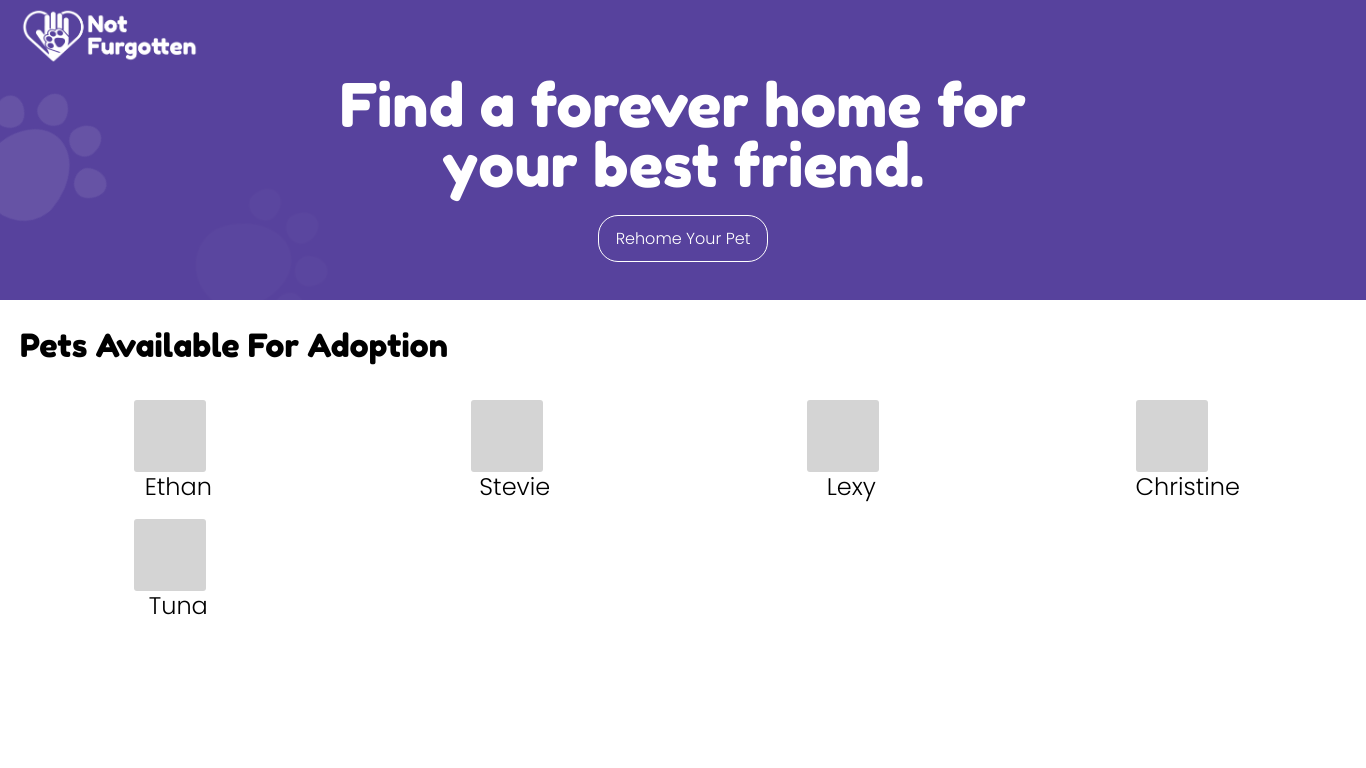
Not Fur-gotten Home Page User Flow › should be able to navigate to the donation form from the home page
Click the button with class "rehome-button" at (683, 239), box [598,215,768,262]
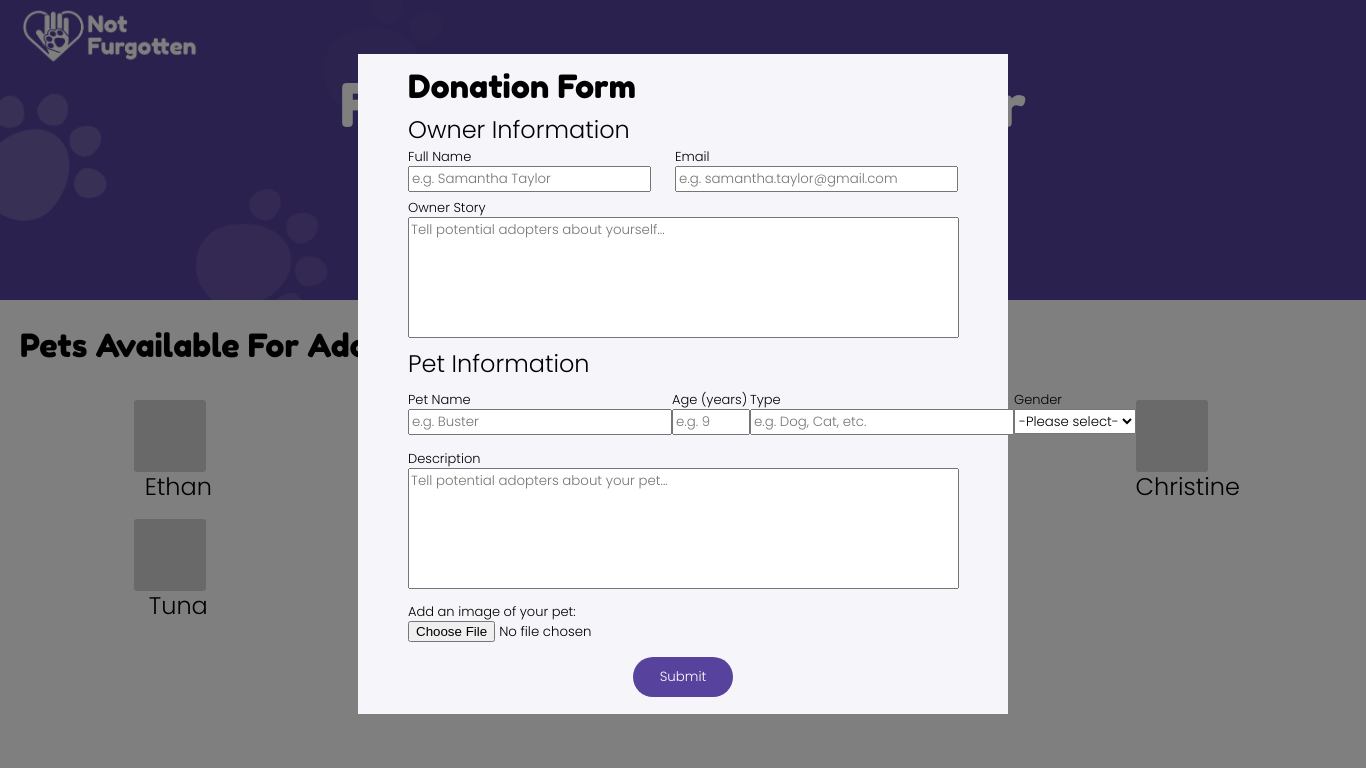
Result: the heading with class "form-title" reads "Donation Form" at [408,71,636,103]
Result: the file field with test id "image-upload" is shown at [408,621,688,642]
Result: the button "Submit" is shown at [633,657,733,697]
